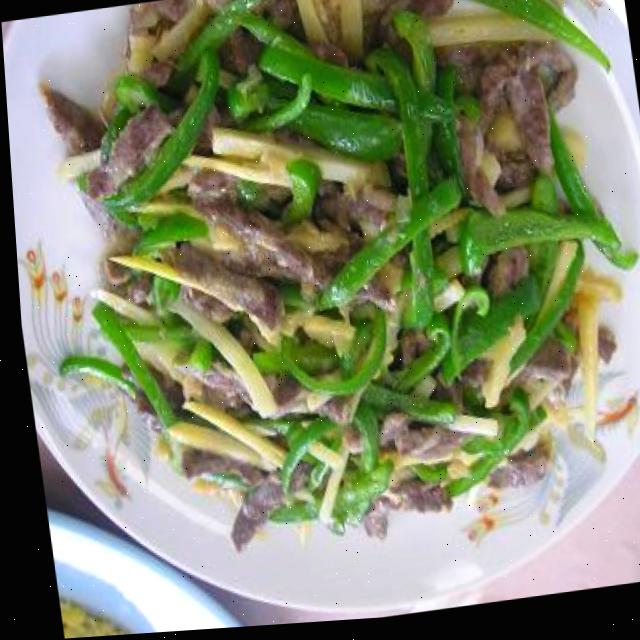牛肉菜式: (1, 0, 640, 605)
